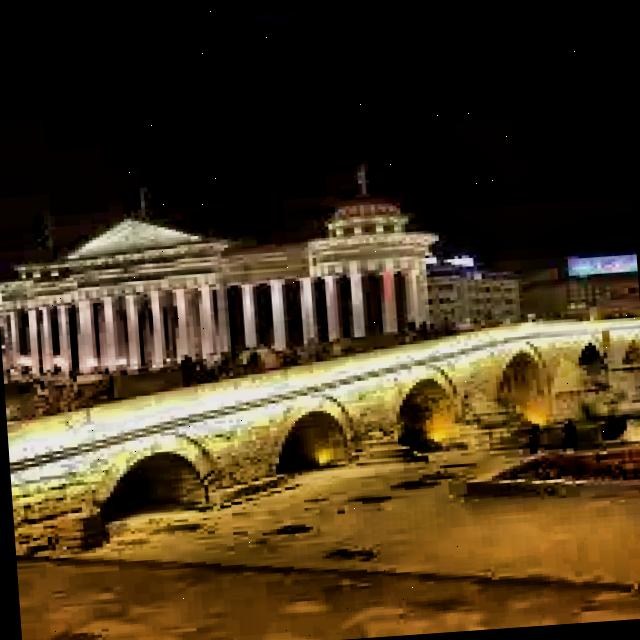stone bridge: (1, 304, 640, 564)
